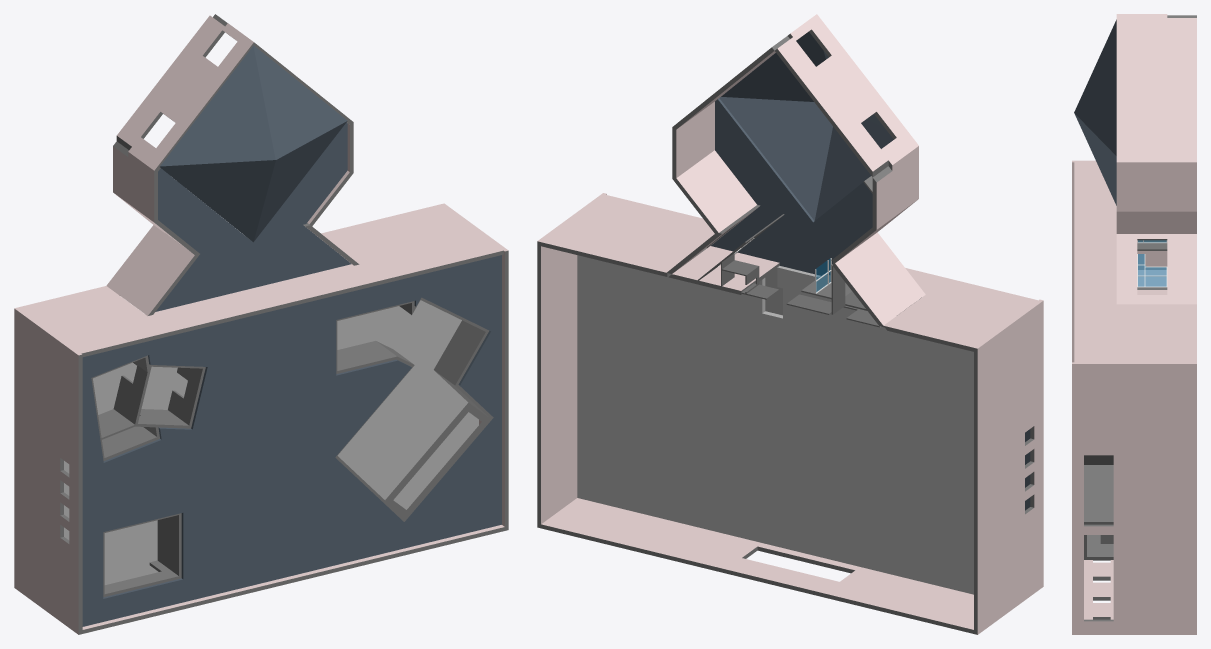
The model's file is WilliamEmslie2.obj.
3 views of the same model, side by side, from view 1: azimuth 30°, elevation 25°; view 2: azimuth 150°, elevation 25°; view 3: azimuth 270°, elevation 25° (orthographic). The views are drawn at different scales.
Parts seen in each view (by area): view 1: Generic - 12":3, Generic - 12":2, Generic - 12", Generic - 12":1, CMU Assembly_01 SQUARE 4x4 tile exterior:4, CMU Assembly_01 SQUARE 4x4 tile exterior:17, CMU Assembly_01 SQUARE 4x4 tile exterior:16, CMU Assembly_01 SQUARE 4x4 tile exterior:12, CMU Assembly_01 SQUARE 4x4 tile exterior:13, CMU Assembly_01 SQUARE 4x4 tile exterior:8, CMU Assembly_01 SQUARE 4x4 tile exterior:5, CMU Assembly_01 SQUARE 4x4 tile exterior:15 (+13 smaller); view 2: Generic - 12":2, CMU Assembly_01 SQUARE 4x4 tile exterior:3, CMU Assembly_01 SQUARE 4x4 tile exterior:4, Generic - 12", Generic - 12":1, CMU Assembly_01 SQUARE 4x4 tile exterior:2, CMU Assembly_01 SQUARE 4x4 tile exterior:16, CMU Assembly_01 SQUARE 4x4 tile exterior:12, CMU Assembly_01 SQUARE 4x4 tile exterior:17, CMU Assembly_01 SQUARE 4x4 tile exterior:13, CMU Assembly_01 SQUARE 4x4 tile exterior:8, CMU Assembly_01 SQUARE 4x4 tile exterior:5 (+7 smaller); view 3: CMU Assembly_01 SQUARE 4x4 tile exterior:2, CMU Assembly_01 SQUARE 4x4 tile exterior:10, CMU Assembly_01 SQUARE 4x4 tile exterior:17, CMU Assembly_01 SQUARE 4x4 tile exterior:14, CMU Assembly_01 SQUARE 4x4 tile exterior:12, CMU Assembly_01 SQUARE 4x4 tile exterior:18, Generic - 12", CMU Assembly_01 SQUARE 4x4 tile exterior:9, CMU Assembly_01 SQUARE 4x4 tile exterior:11, Generic - 12":12, CMU Assembly_01 SQUARE 4x4 tile exterior:15, CMU Assembly_01 SQUARE 4x4 tile exterior:16 (+10 smaller).
Boxes of the visible parts, box(x1,y1,x2,y2) form: Generic - 12":3: box(82, 255, 501, 626); Generic - 12":2: box(64, 300, 478, 584); Generic - 12": box(160, 45, 347, 242); Generic - 12":1: box(155, 122, 351, 311); CMU Assembly_01 SQUARE 4x4 tile exterior:4: box(14, 307, 58, 617); CMU Assembly_01 SQUARE 4x4 tile exterior:17: box(60, 232, 503, 356); CMU Assembly_01 SQUARE 4x4 tile exterior:16: box(55, 337, 82, 630); CMU Assembly_01 SQUARE 4x4 tile exterior:12: box(321, 203, 485, 261); CMU Assembly_01 SQUARE 4x4 tile exterior:13: box(128, 23, 256, 176); CMU Assembly_01 SQUARE 4x4 tile exterior:8: box(106, 225, 197, 315); CMU Assembly_01 SQUARE 4x4 tile exterior:5: box(18, 286, 147, 337); CMU Assembly_01 SQUARE 4x4 tile exterior:15: box(55, 525, 504, 634); Generic - 12":2: box(577, 255, 973, 594); CMU Assembly_01 SQUARE 4x4 tile exterior:3: box(537, 498, 973, 633); CMU Assembly_01 SQUARE 4x4 tile exterior:4: box(974, 316, 1020, 634); Generic - 12": box(719, 32, 893, 220); Generic - 12":1: box(711, 98, 919, 299); CMU Assembly_01 SQUARE 4x4 tile exterior:2: box(537, 245, 577, 524); CMU Assembly_01 SQUARE 4x4 tile exterior:16: box(1016, 299, 1043, 599); CMU Assembly_01 SQUARE 4x4 tile exterior:12: box(537, 210, 702, 276); CMU Assembly_01 SQUARE 4x4 tile exterior:17: box(581, 195, 1037, 316); CMU Assembly_01 SQUARE 4x4 tile exterior:13: box(788, 14, 918, 170); CMU Assembly_01 SQUARE 4x4 tile exterior:8: box(833, 232, 925, 327); CMU Assembly_01 SQUARE 4x4 tile exterior:5: box(883, 294, 1015, 351); CMU Assembly_01 SQUARE 4x4 tile exterior:2: box(1116, 368, 1196, 630); CMU Assembly_01 SQUARE 4x4 tile exterior:10: box(1116, 18, 1196, 156); CMU Assembly_01 SQUARE 4x4 tile exterior:17: box(1074, 162, 1122, 362); CMU Assembly_01 SQUARE 4x4 tile exterior:14: box(1072, 362, 1116, 634); CMU Assembly_01 SQUARE 4x4 tile exterior:12: box(1116, 304, 1196, 367); CMU Assembly_01 SQUARE 4x4 tile exterior:18: box(1116, 234, 1196, 304); Generic - 12": box(1074, 19, 1116, 205); CMU Assembly_01 SQUARE 4x4 tile exterior:9: box(1116, 156, 1196, 205); CMU Assembly_01 SQUARE 4x4 tile exterior:11: box(1116, 206, 1196, 233); Generic - 12":12: box(1084, 465, 1113, 522); CMU Assembly_01 SQUARE 4x4 tile exterior:15: box(1084, 560, 1113, 619); CMU Assembly_01 SQUARE 4x4 tile exterior:16: box(1072, 160, 1096, 362).
Size of the model in its own units: 162 by 190 by 42.
